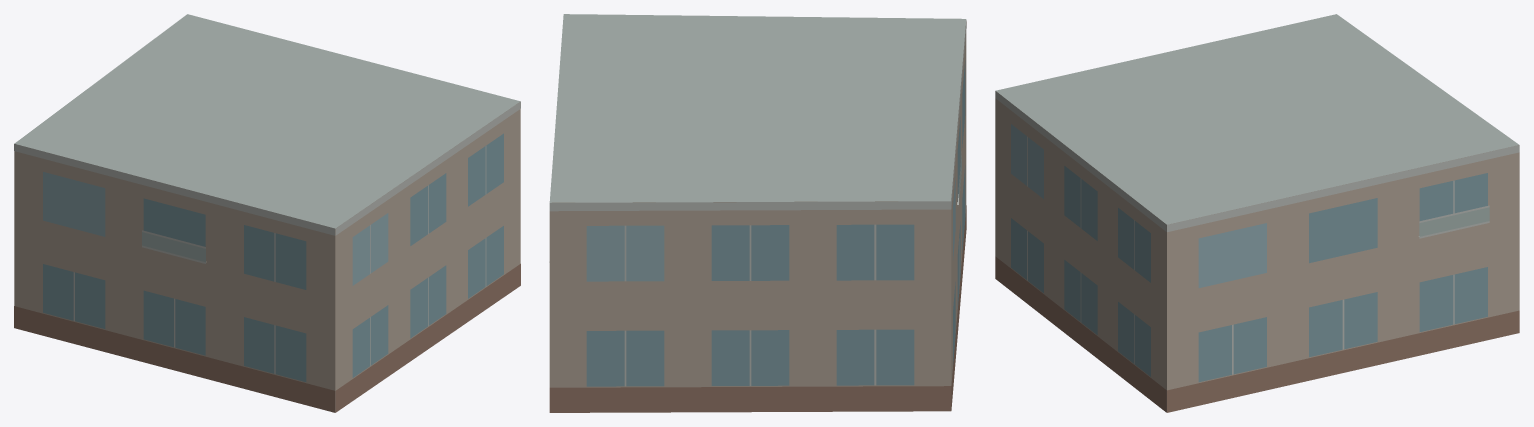
The model's file is survey-upis-32612906.glb.
The picture shows the model from 3 angles, left to right: view 1: azimuth 30°, elevation 25°; view 2: azimuth 150°, elevation 25°; view 3: azimuth 270°, elevation 25°; orthographic projection. The views are drawn at different scales.
Visible parts, largest first — view 1: survey-upis-32612906.tmp; view 2: survey-upis-32612906.tmp; view 3: survey-upis-32612906.tmp.
Part boxes in pixels (x1,y1,x2,y2): survey-upis-32612906.tmp: (14, 14, 520, 412); survey-upis-32612906.tmp: (549, 14, 966, 412); survey-upis-32612906.tmp: (995, 14, 1519, 412).
Bounding box in the file's own units: 14.67 × 6.1 × 15.41.
